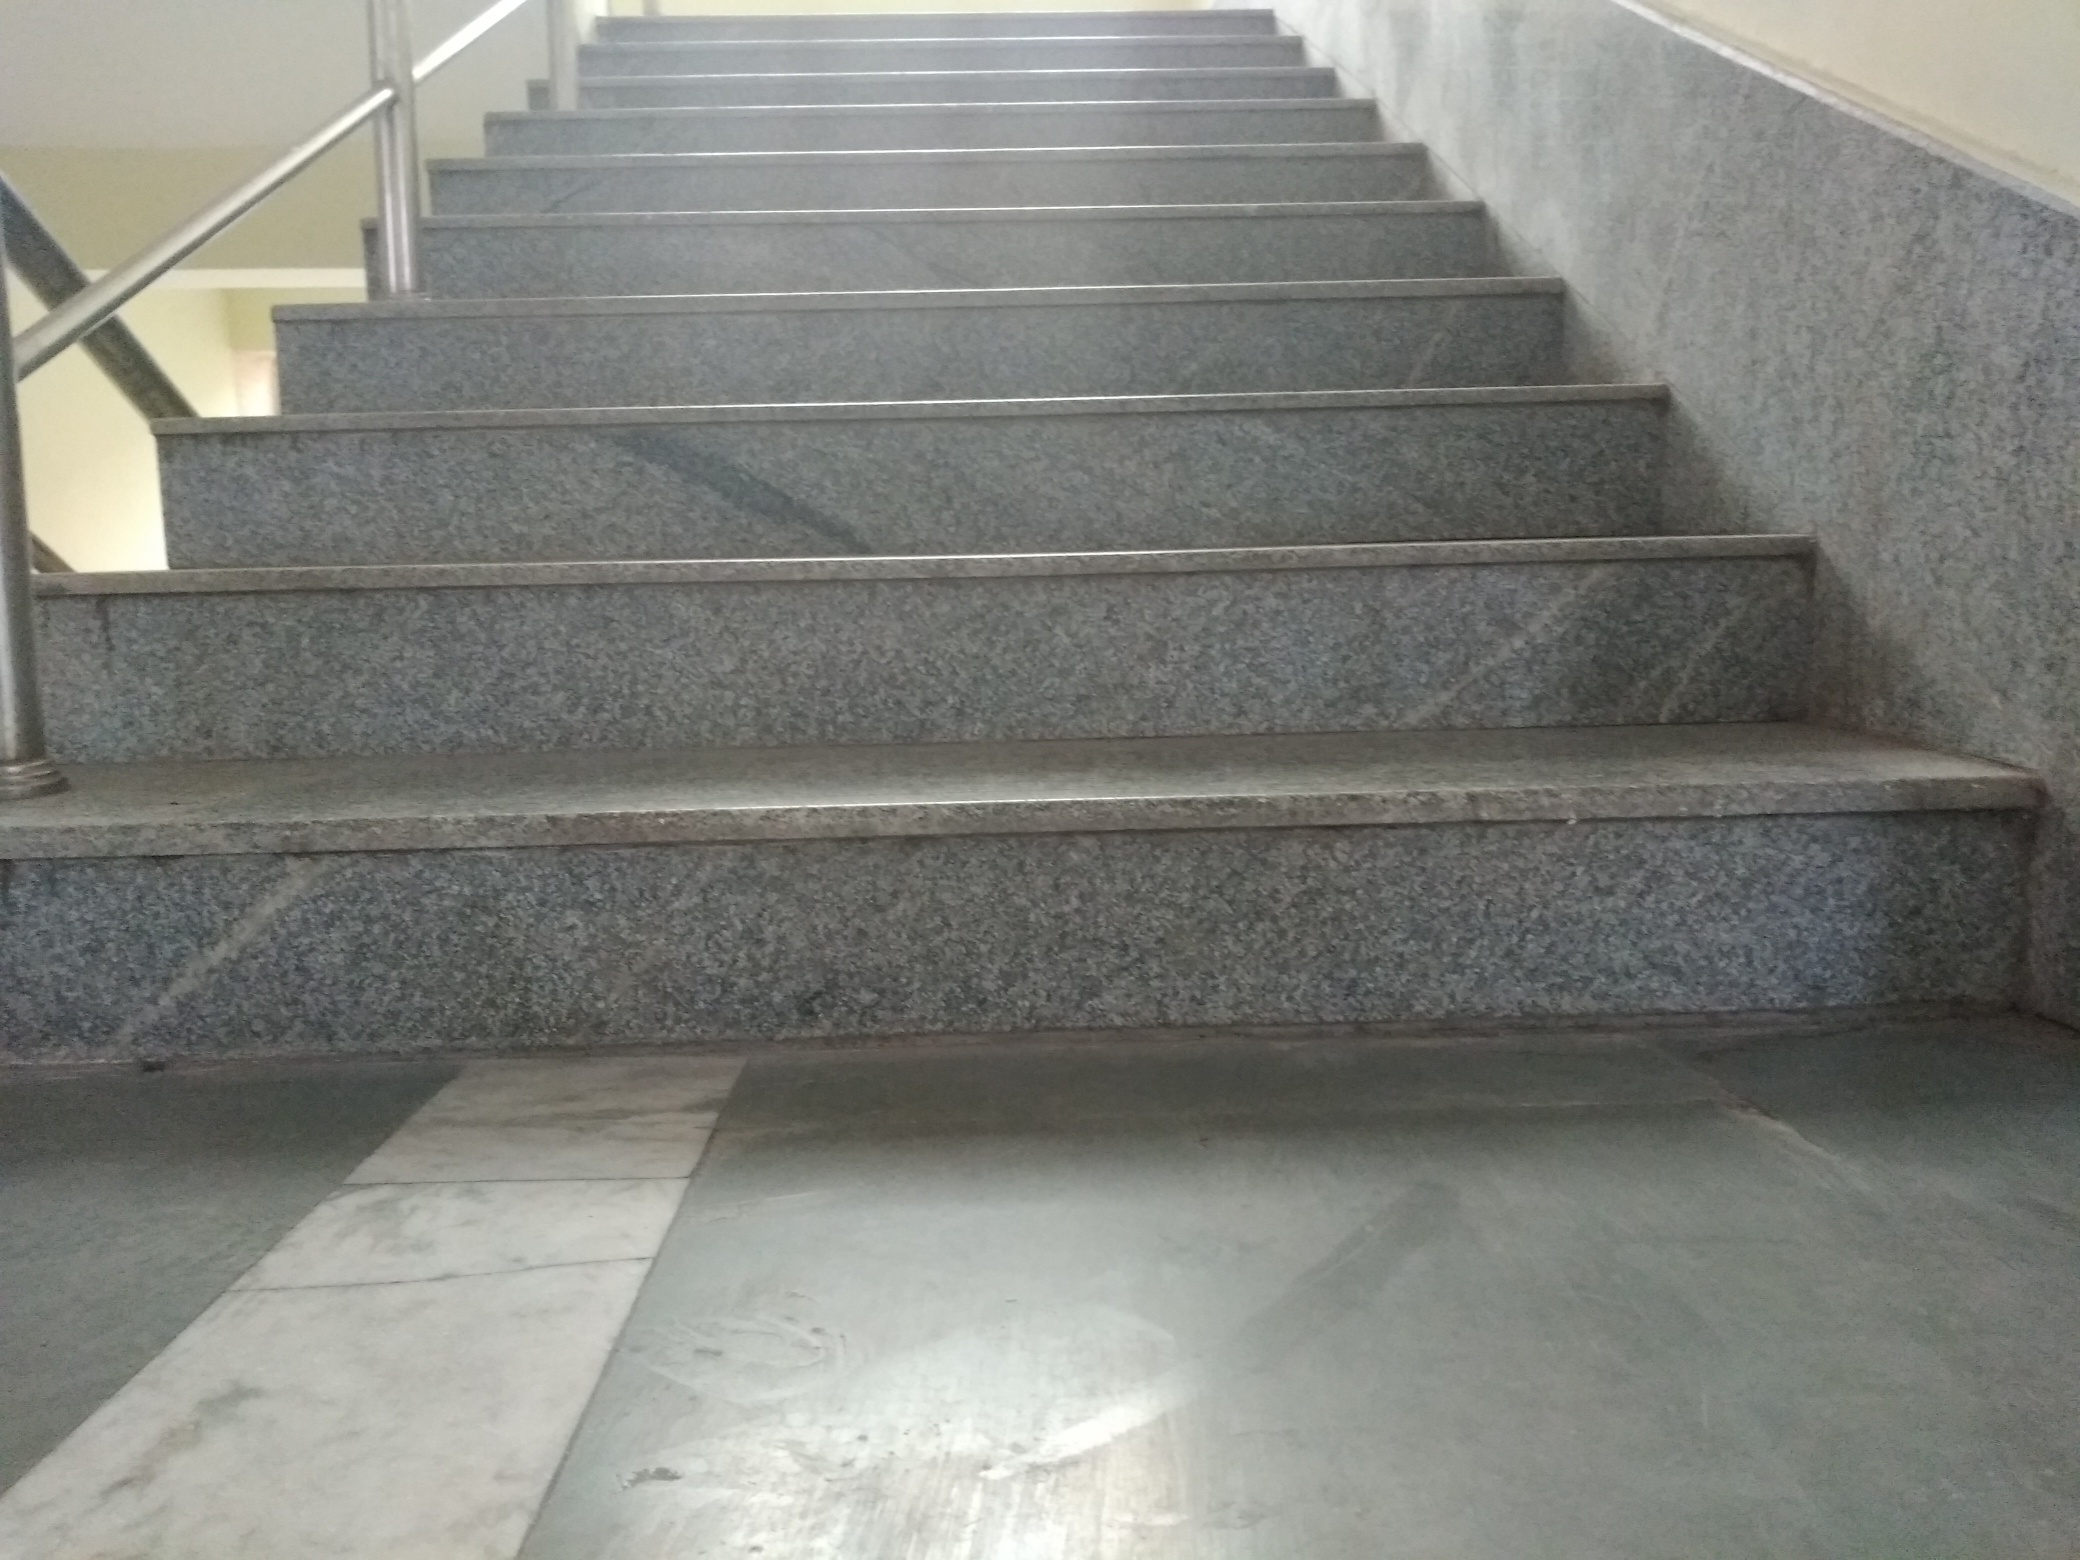stairs_up: (147, 7, 2021, 1036)
